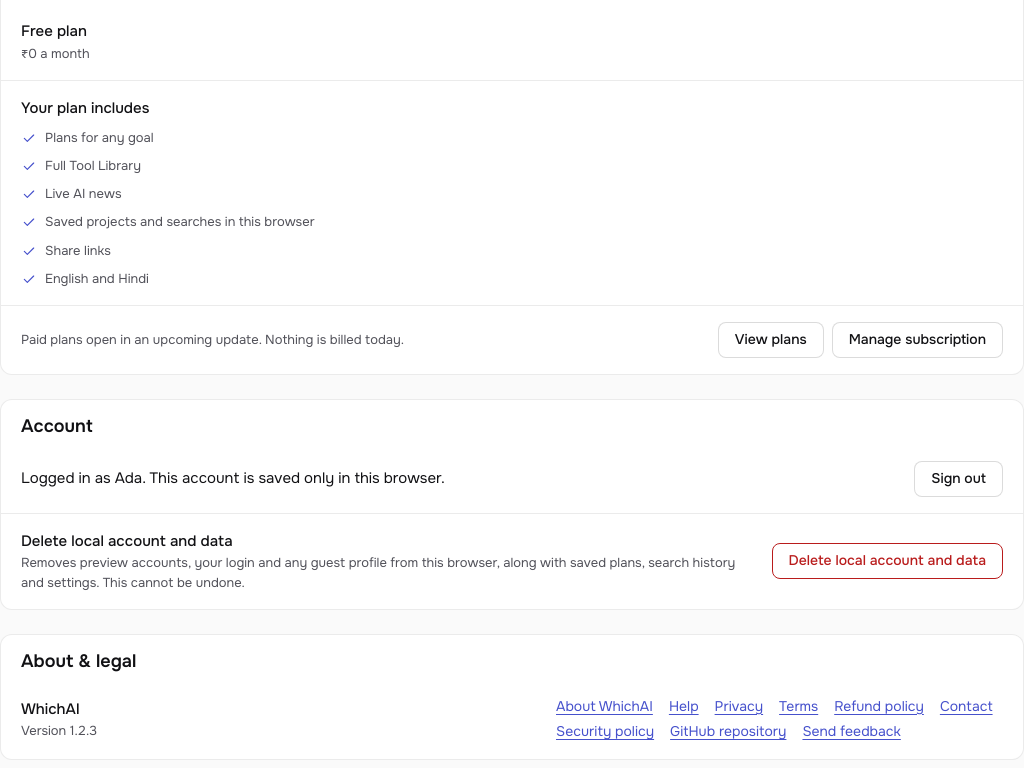
Scenario: settings: preview account and guest › shows a logged-in preview account and logs it out locally
(page scrolled)
Expected: the text "Logged in as Ada. This account is saved only in this browser." is shown, [21, 468, 445, 488]
What coordinates should you click on to do the following:
click the button "Sign out"
I would click on:
 (959, 479)
Its box is [914, 461, 1003, 497].
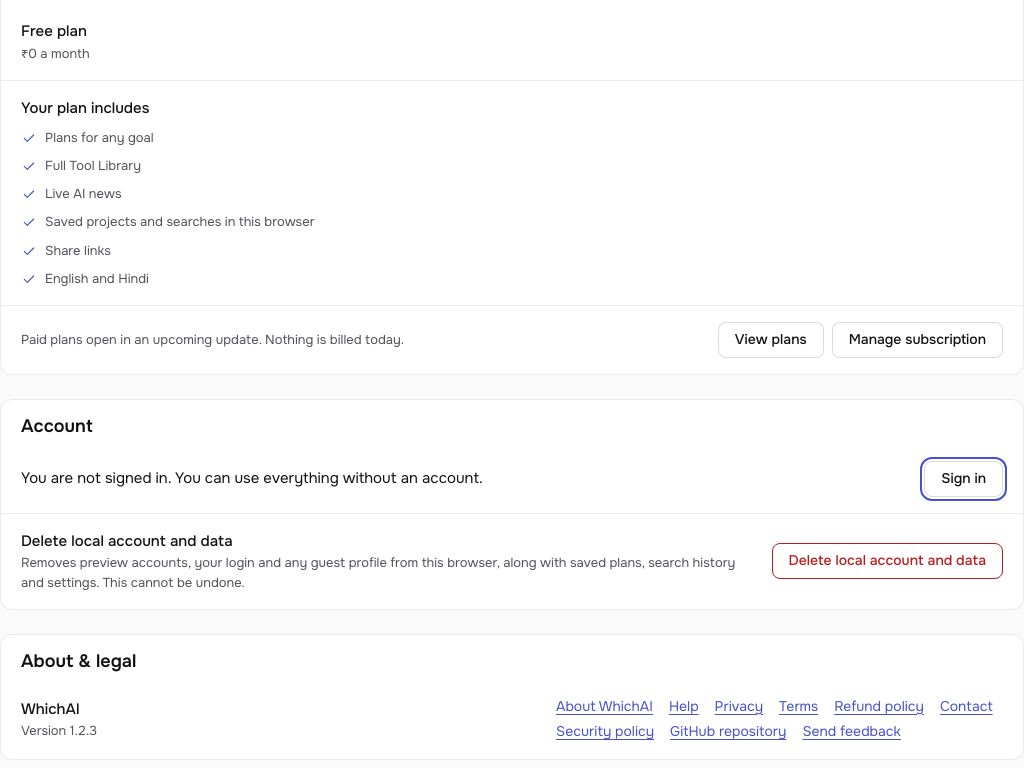
Now the button "Sign in" is shown, box [924, 461, 1003, 497]
